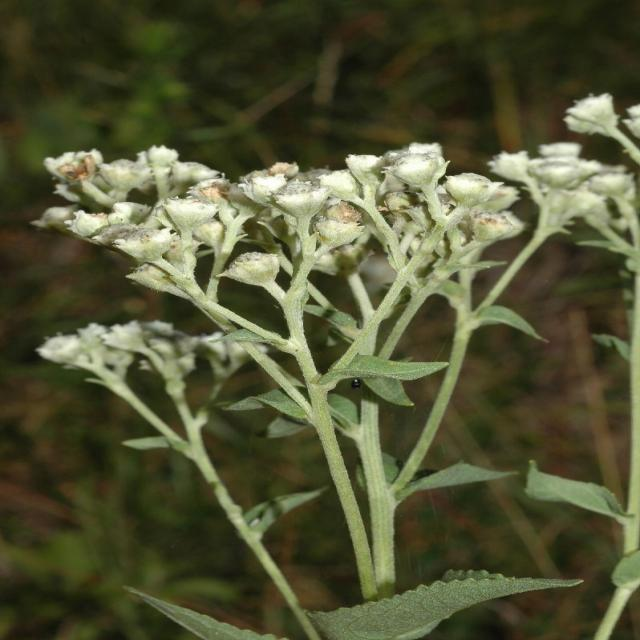Poisonous-Parthenium: (42, 80, 640, 629)
